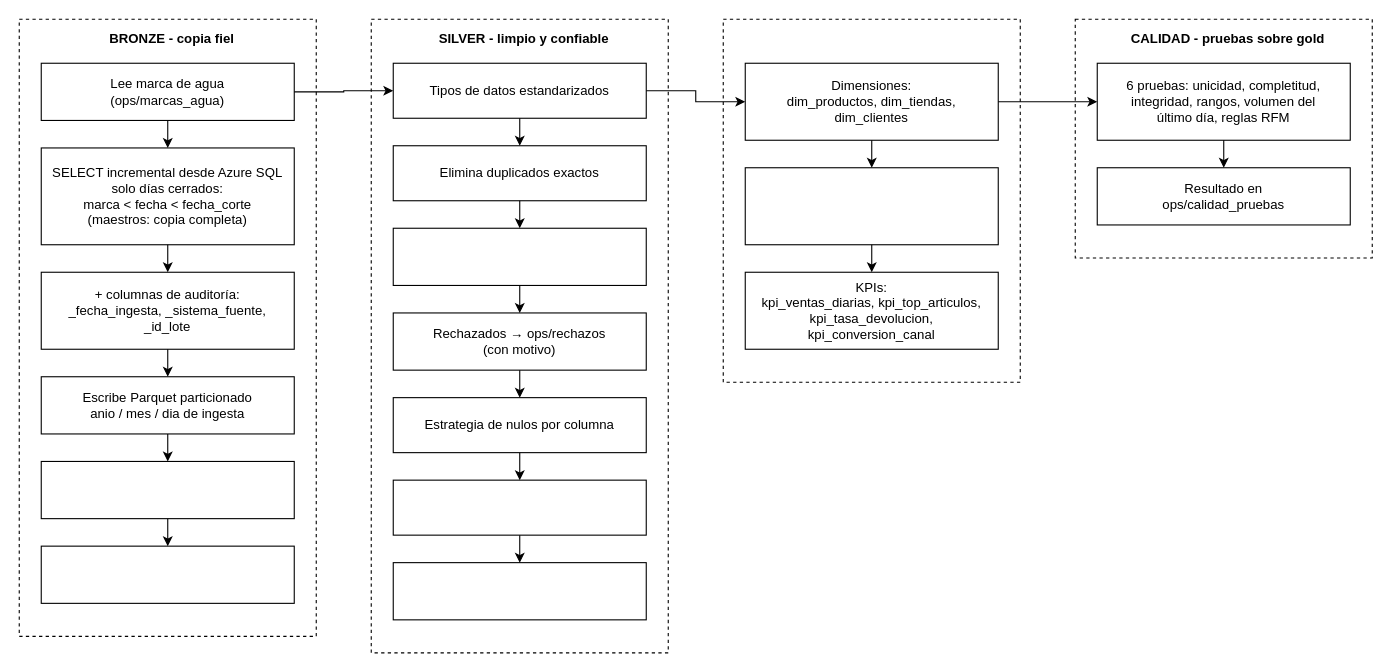
This 1392x672 diagram has some shape labels left out. Each missing label, with the box of its shape:
GOLD - modelo dimensional + reglas: (722, 18, 1020, 382)
Hash con sal de datos personales: (392, 479, 646, 535)
Hechos: fact_ventas, fact_inventario, fact_devoluciones, fact_rfm_clientes: (744, 167, 998, 245)
Log: registros, tamaño, duración (ops/ejecuciones): (40, 460, 294, 519)
Reporte de calidad (ops/calidad_silver): (392, 562, 646, 620)
Valida obligatorios e integridad referencial: (392, 227, 646, 285)
Validación de volumen ±30 % (ops/alertas_volumen + correo): (40, 545, 294, 603)
